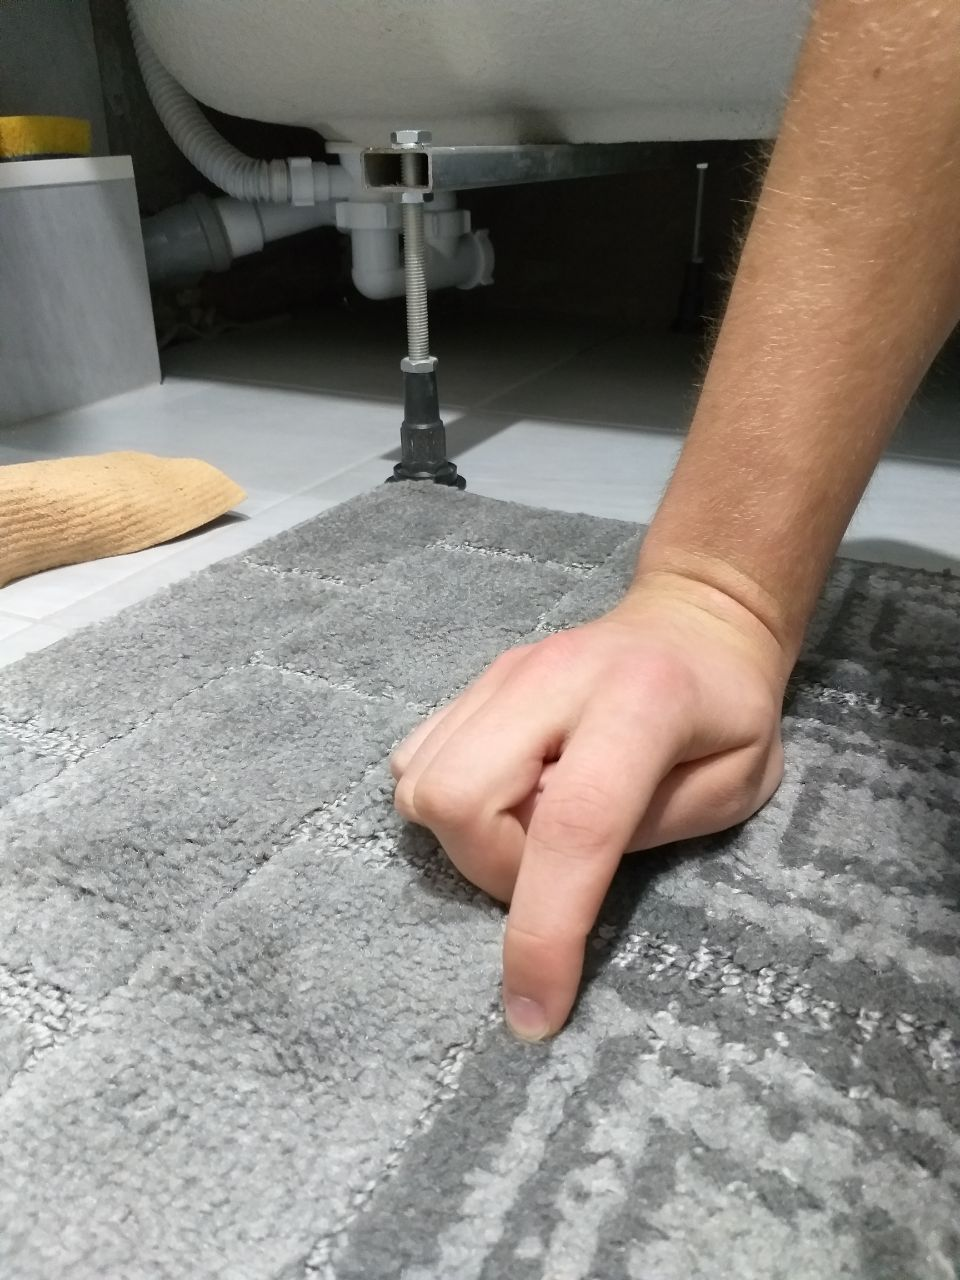finger: (500, 959, 581, 1035)
